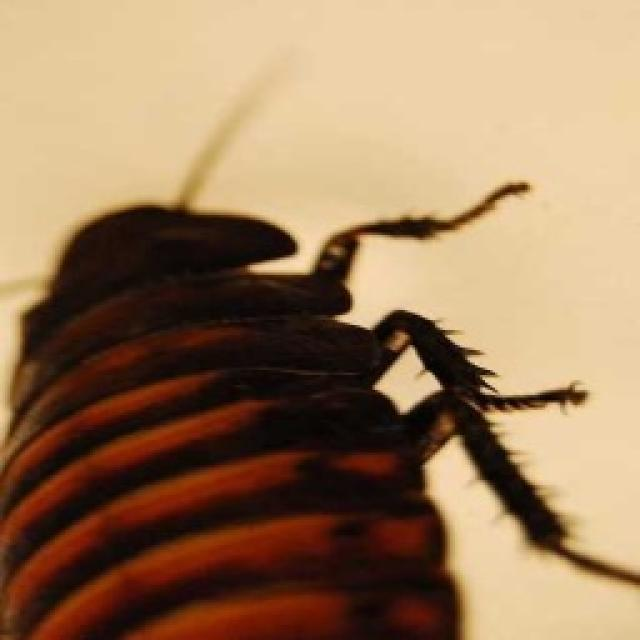cockroach: (0, 106, 577, 640)
